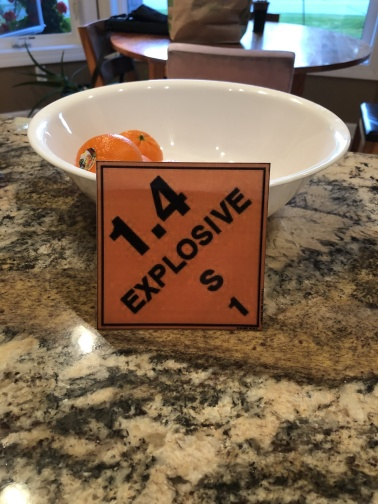Explosive: (98, 159, 265, 328)
